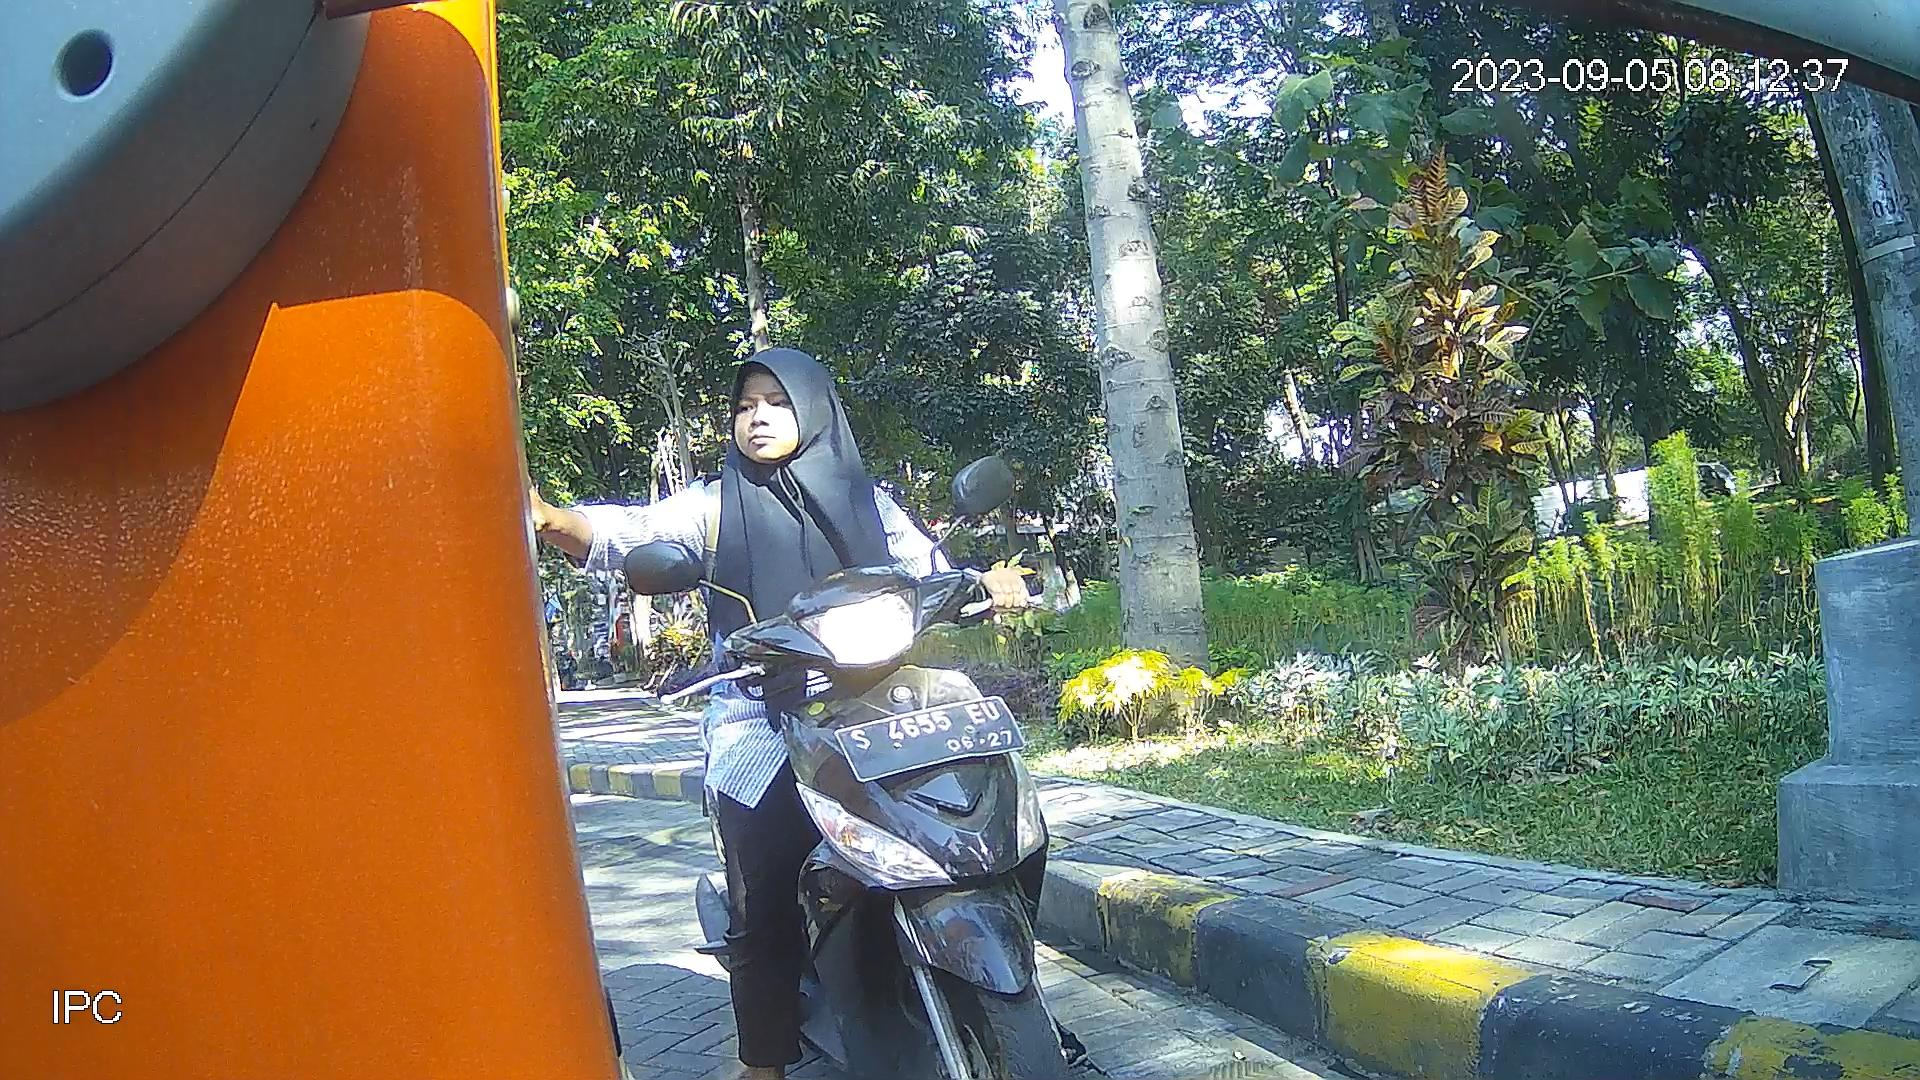plat: (831, 694, 1033, 782)
